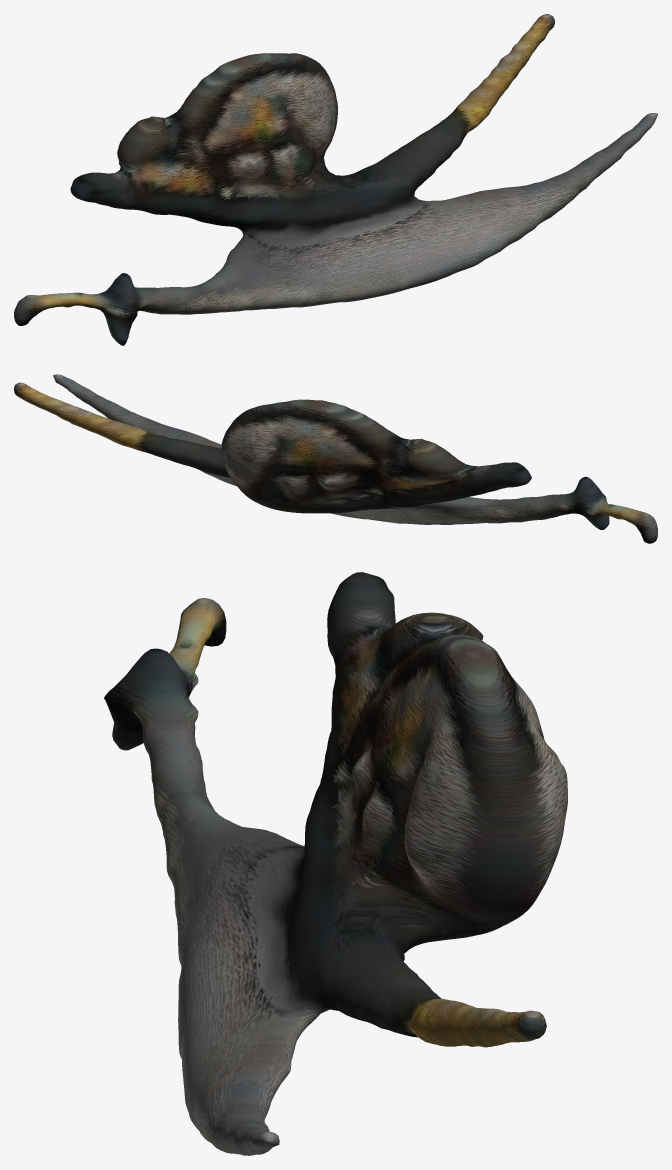
File: kfl-2128.glb
The picture shows the model from 3 angles, top to bottom: view 1: azimuth 30°, elevation 25°; view 2: azimuth 150°, elevation 25°; view 3: azimuth 270°, elevation 25°; orthographic projection. The views are drawn at different scales.
Parts seen in each view (by area): view 1: geometry_0; view 2: geometry_0; view 3: geometry_0.
Boxes of the visible parts, x1,y1,x2,y2 form: geometry_0: [14, 14, 657, 345]; geometry_0: [14, 374, 657, 543]; geometry_0: [104, 572, 567, 1155].
Size of the model in its own units: 0.9863 by 0.2779 by 0.3366.
1 material, 1 textured.
